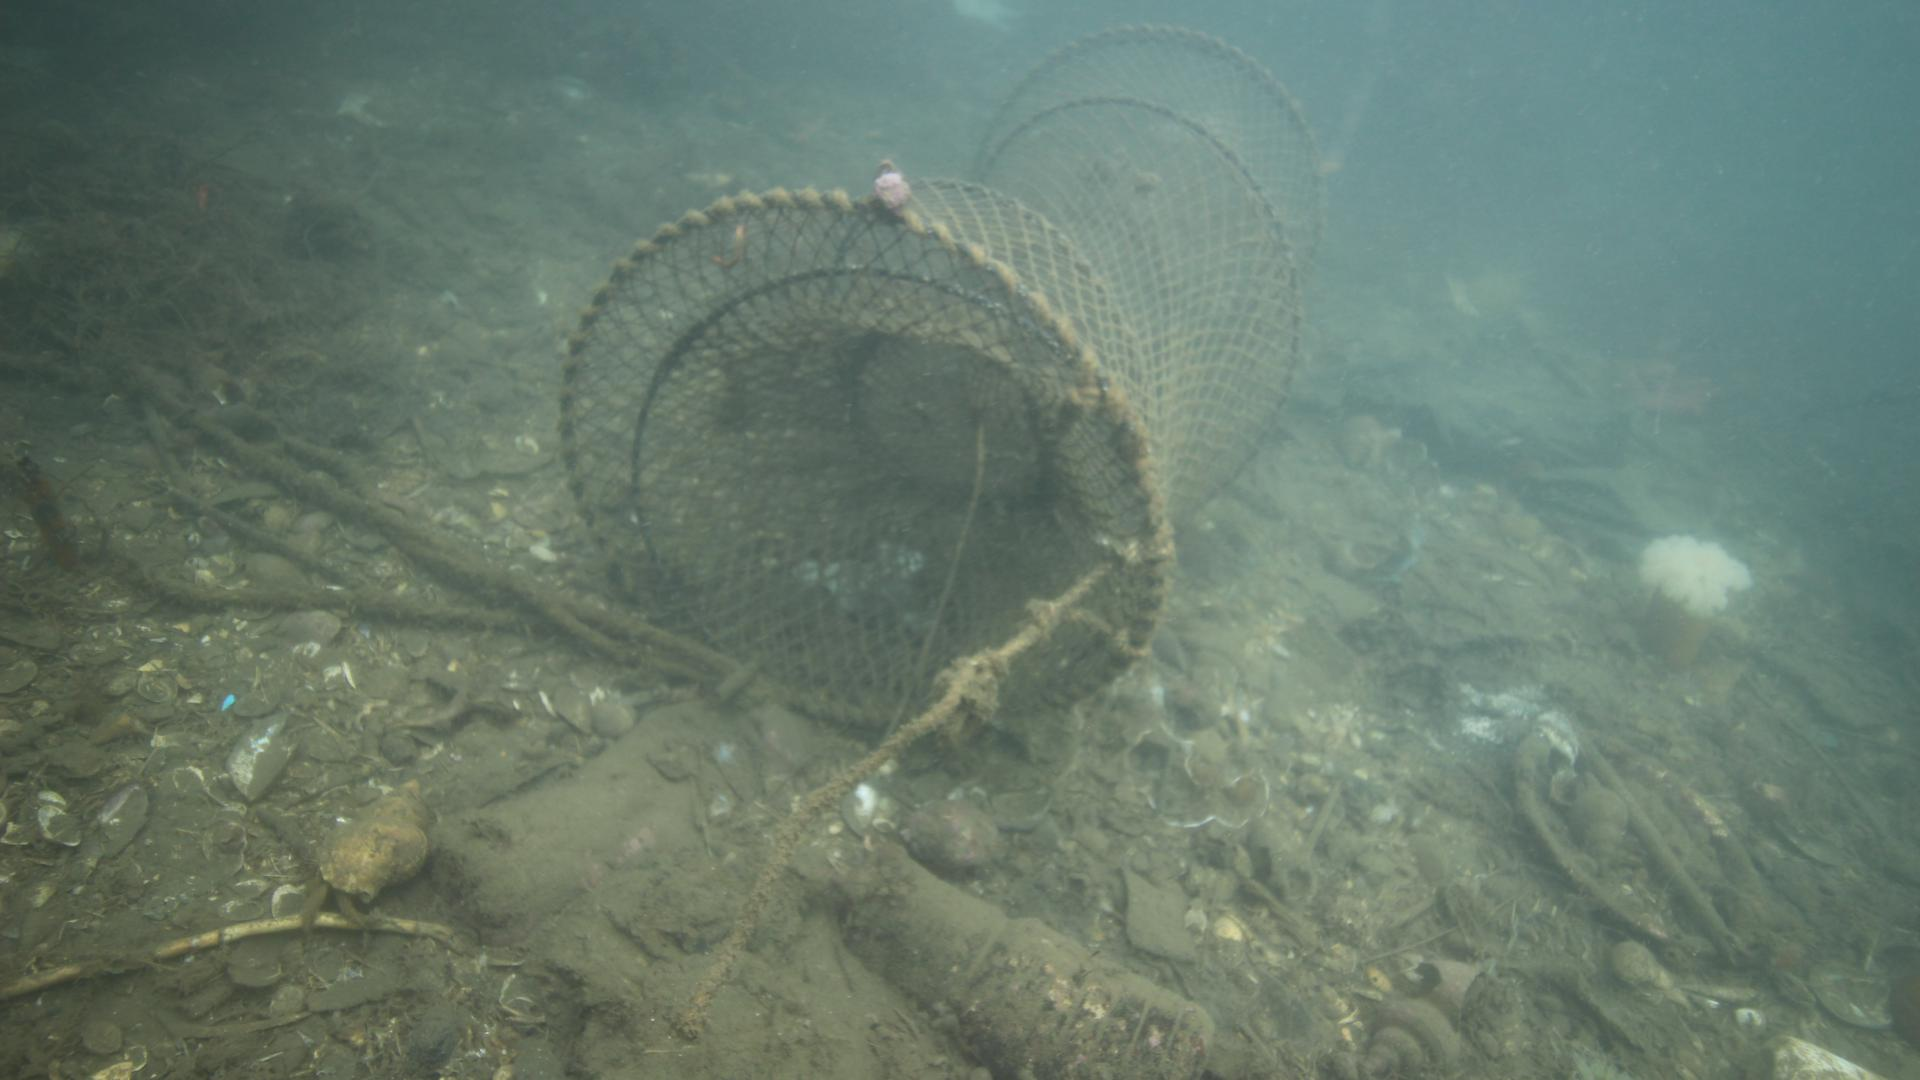rope: (686, 549, 1122, 1034)
spring fish trap: (556, 22, 1327, 737)
